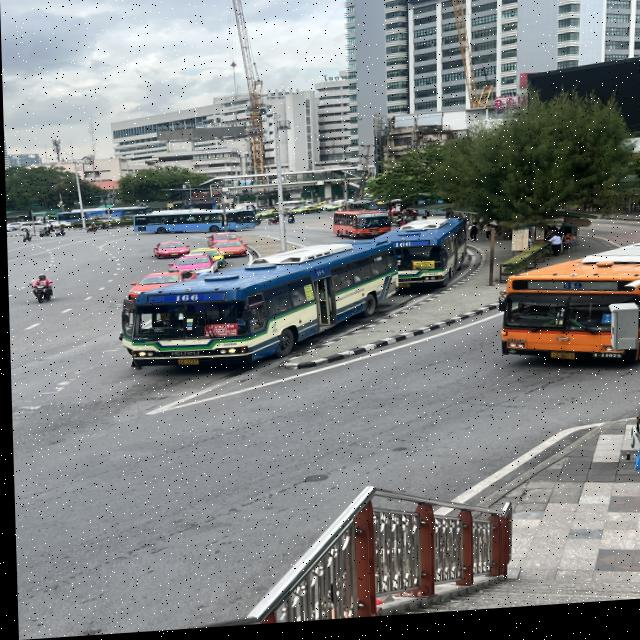BMTA-bus: (120, 244, 399, 370), (497, 256, 640, 374), (375, 225, 469, 296), (132, 209, 257, 238), (80, 209, 152, 221)
Bus Line Number: (556, 288, 585, 301), (170, 295, 202, 305), (392, 246, 412, 254)
Bus Side Number: (592, 359, 620, 369), (213, 345, 236, 350), (421, 279, 438, 283)
Destination Sign: (203, 325, 236, 342), (409, 266, 434, 276), (598, 322, 608, 333)
